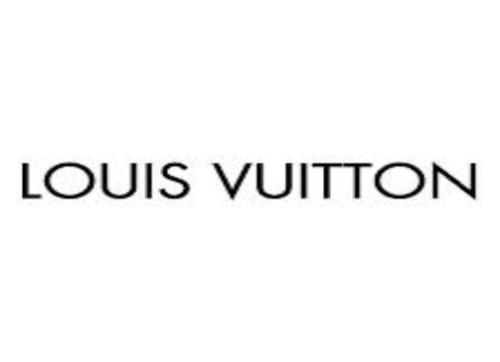LOUIS-VUITTON: (12, 152, 489, 230)
